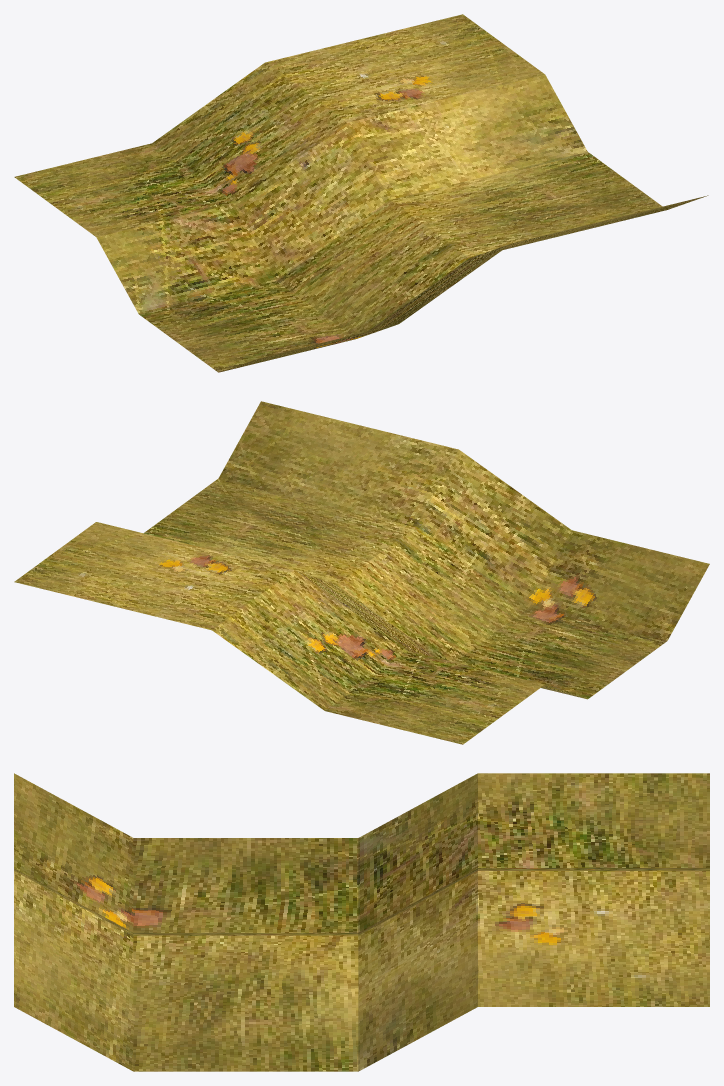
Rendered from 3dModel_Props_TestFloor_1.glb.
The picture shows the model from 3 angles, top to bottom: view 1: azimuth 30°, elevation 25°; view 2: azimuth 150°, elevation 25°; view 3: azimuth 270°, elevation 25°; orthographic projection. The views are drawn at different scales.
Visible parts, largest first — view 1: Mesh_Test_Plane; view 2: Mesh_Test_Plane; view 3: Mesh_Test_Plane.
Part boxes in pixels (x1=…): Mesh_Test_Plane: x1=14, y1=14, x2=708, y2=372; Mesh_Test_Plane: x1=14, y1=401, x2=709, y2=744; Mesh_Test_Plane: x1=14, y1=773, x2=709, y2=1071.
Size of the model in its own units: 101 by 21.34 by 96.33.
1 material, 1 textured.
